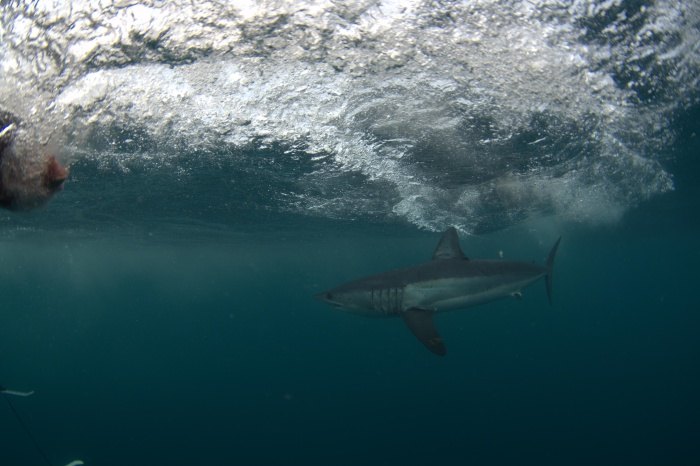Mako: (305, 218, 565, 361)
